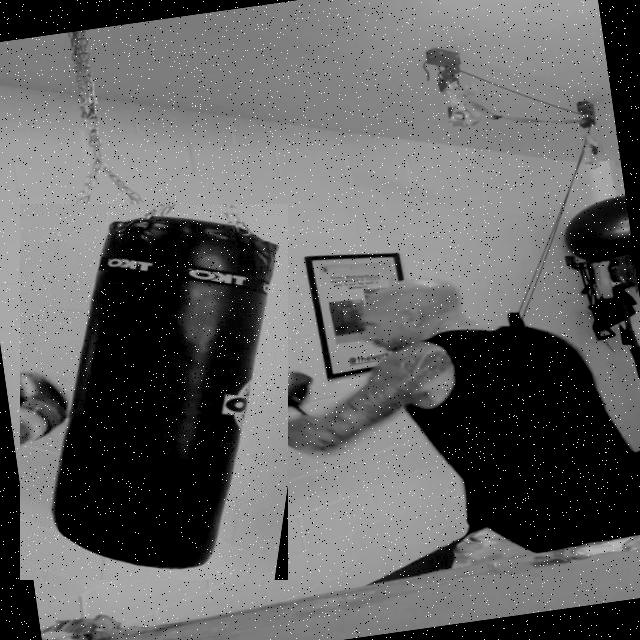punch: (220, 239, 592, 469)
